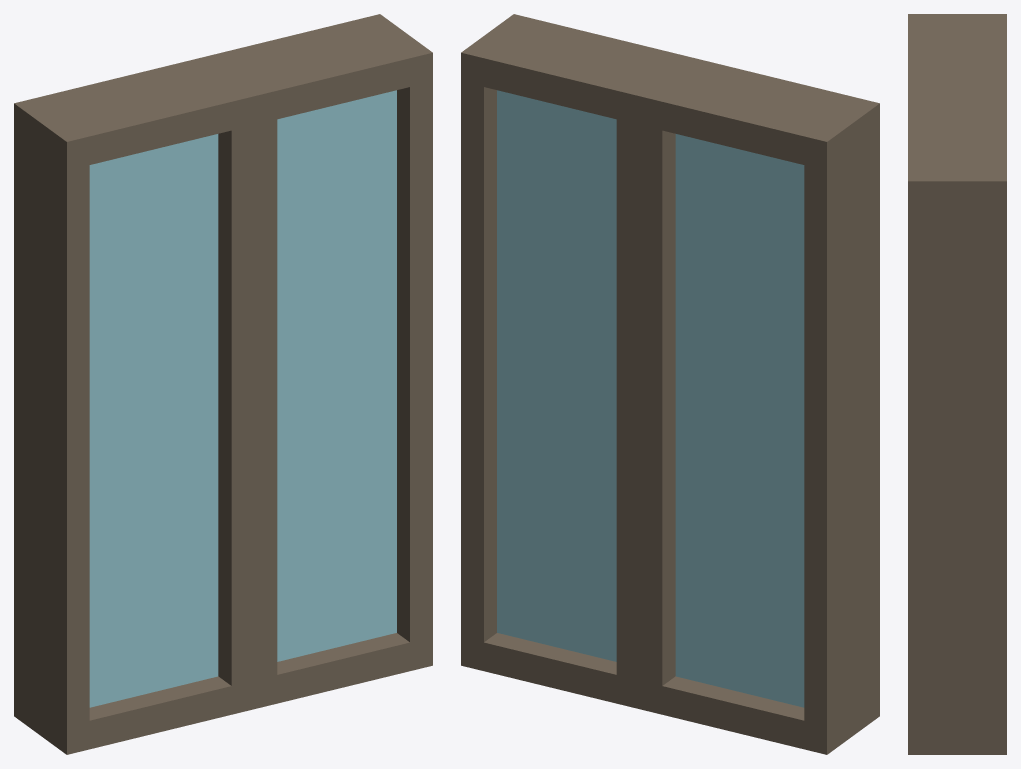
File: steampunk_window_1.fbx
The picture shows the model from 3 angles, left to right: view 1: azimuth 30°, elevation 25°; view 2: azimuth 150°, elevation 25°; view 3: azimuth 270°, elevation 25°; orthographic projection. The views are drawn at different scales.
Visible parts, largest first — view 1: Cube.038; view 2: Cube.038; view 3: Cube.038.
Boxes of the visible parts, x1,y1,x2,y2 form: Cube.038: (14,14,432,754); Cube.038: (461,14,879,754); Cube.038: (908,14,1006,754).
Size of the model in its own units: 0.8 by 1.28 by 0.2.
